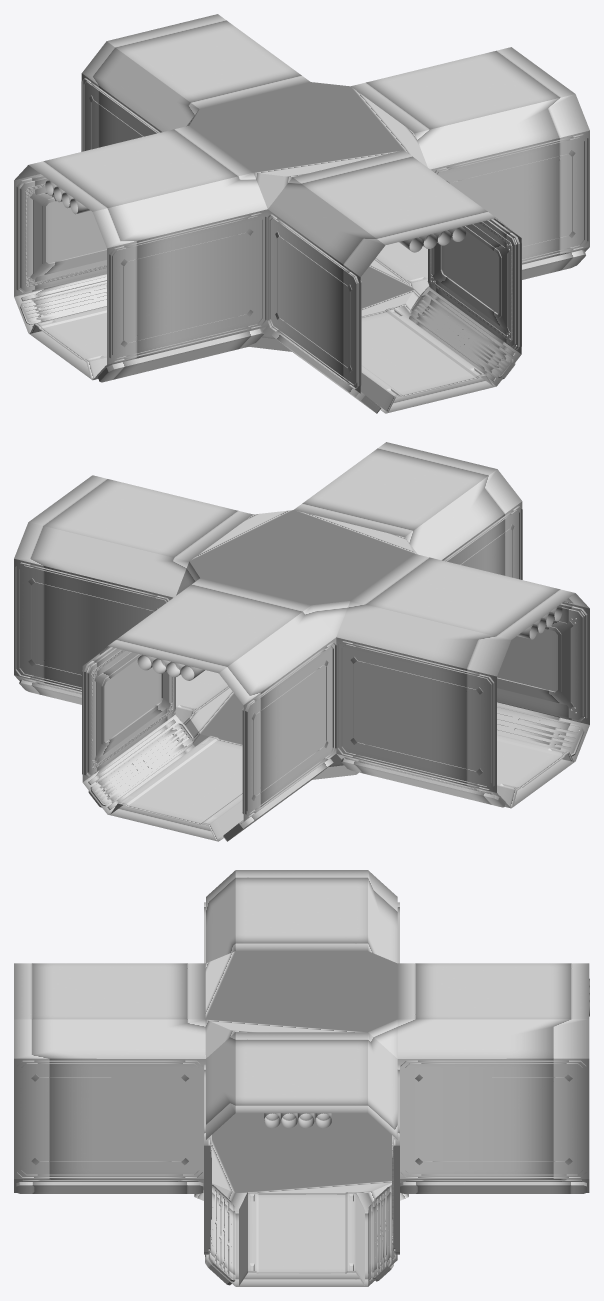
File: xcube.obj
The picture shows the model from 3 angles, top to bottom: view 1: azimuth 30°, elevation 25°; view 2: azimuth 150°, elevation 25°; view 3: azimuth 270°, elevation 25°; orthographic projection. The views are drawn at different scales.
Parts seen in each view (by area): view 1: x_cube; view 2: x_cube; view 3: x_cube.
Boxes of the visible parts, box(x1,y1,x2,y2) form: x_cube: box(14, 14, 589, 413); x_cube: box(14, 442, 589, 841); x_cube: box(14, 870, 589, 1286).
Size of the model in its own units: 237 by 79.62 by 237.
